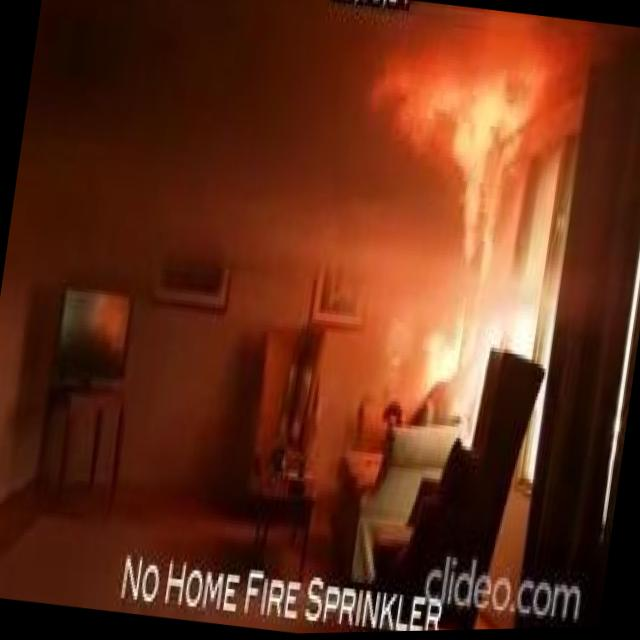fire: (374, 23, 539, 189), (420, 309, 467, 387), (452, 183, 492, 270)
